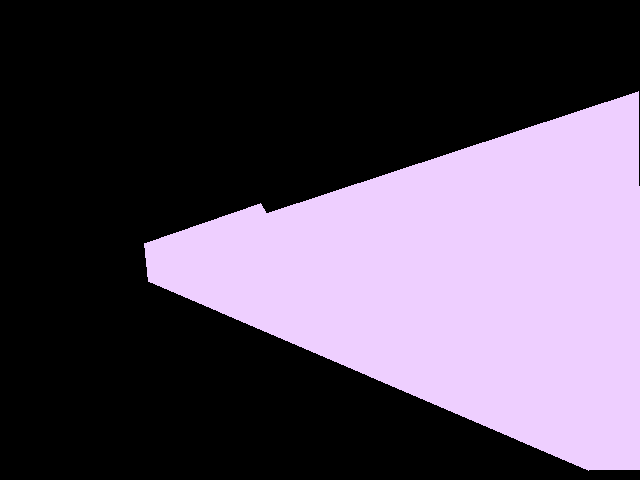Train: (144, 91, 640, 470)
